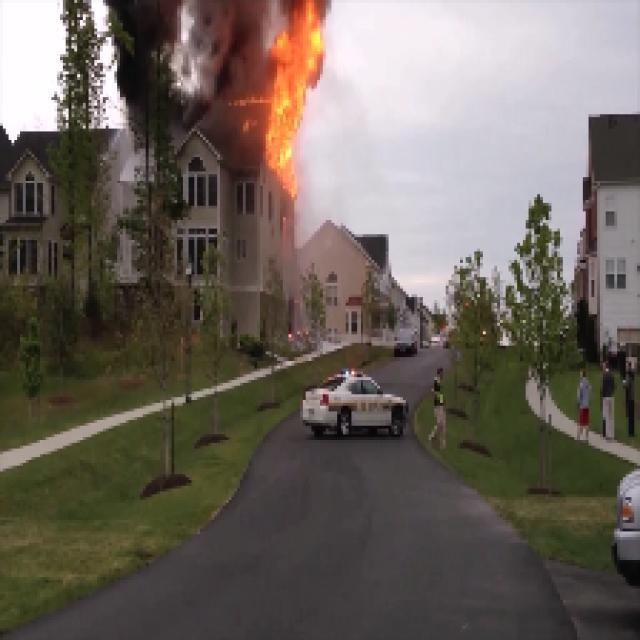Fire: (270, 5, 312, 172)
Smoke: (112, 1, 263, 102)
